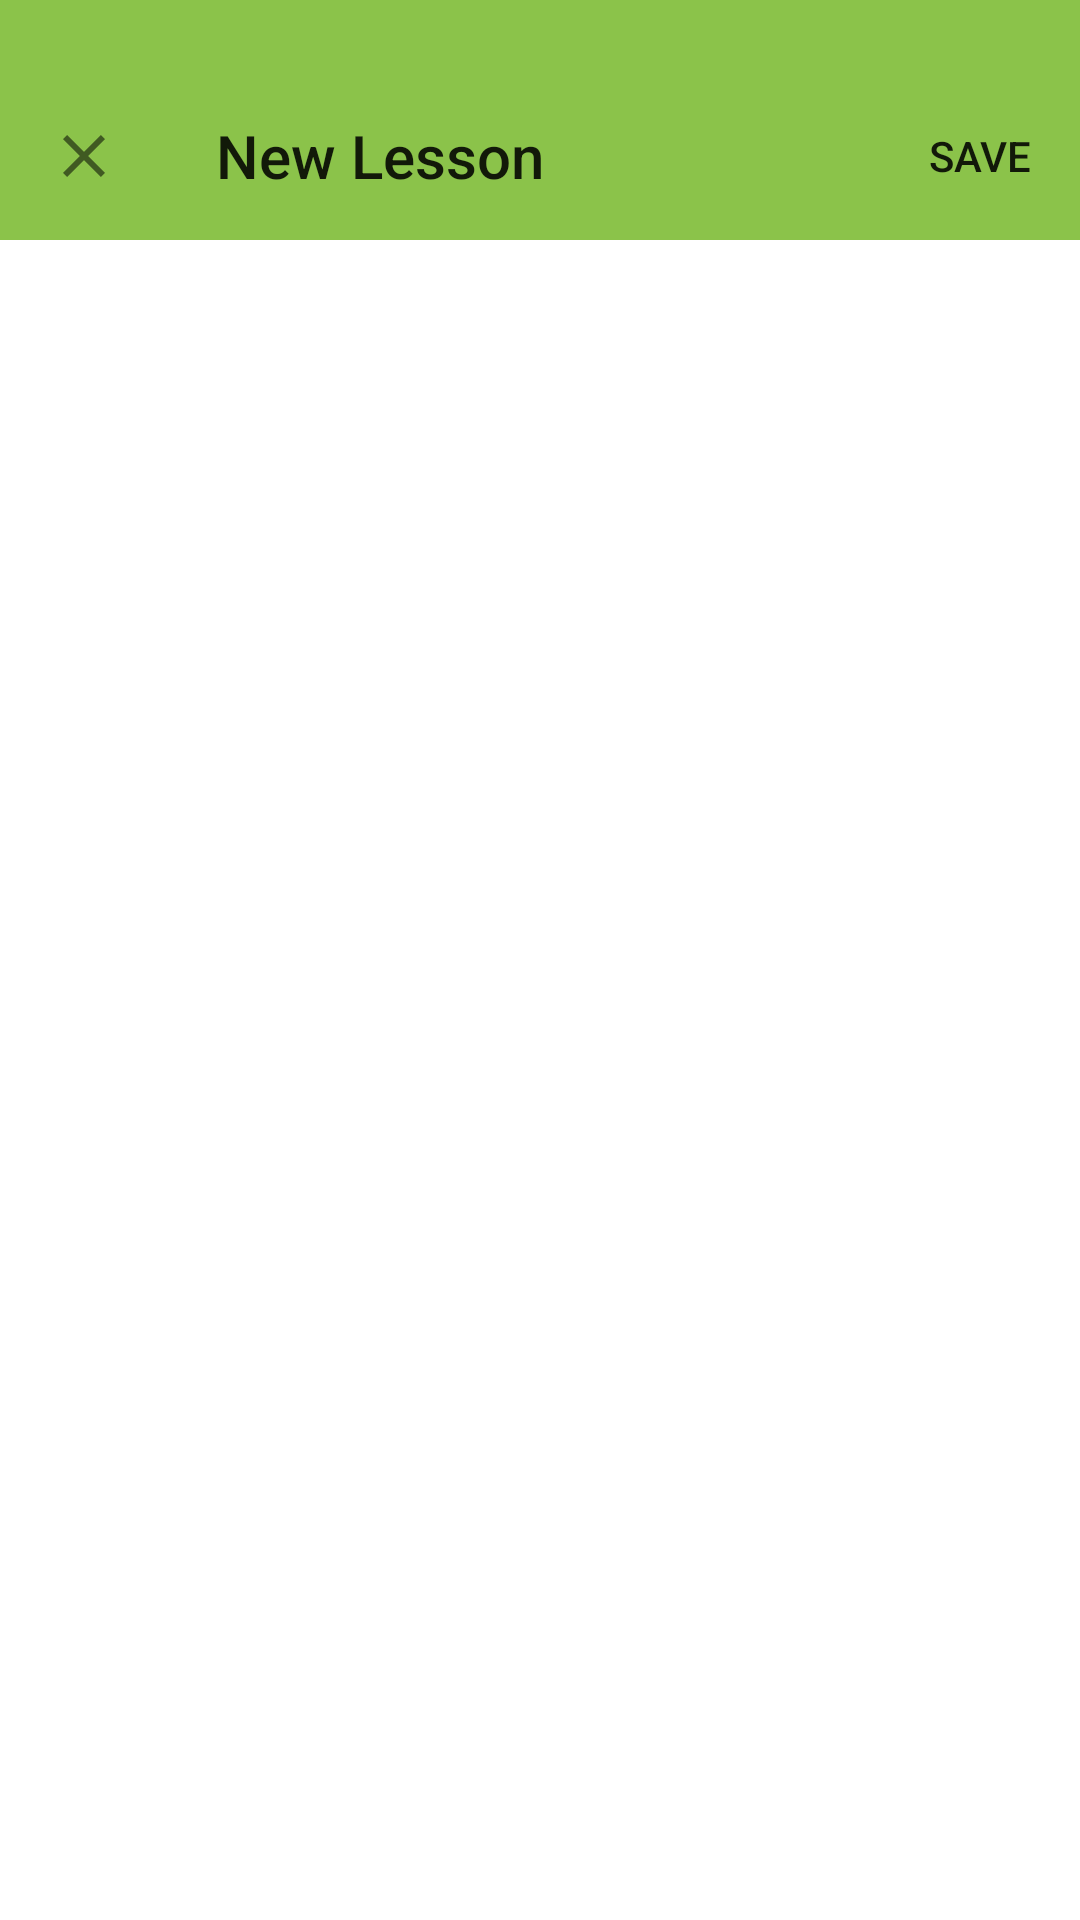

Screen size 1080px×1920px. Icon name, then its box in pixels as (x1, y1, x2, y2):
clear: (63, 135, 105, 177)
